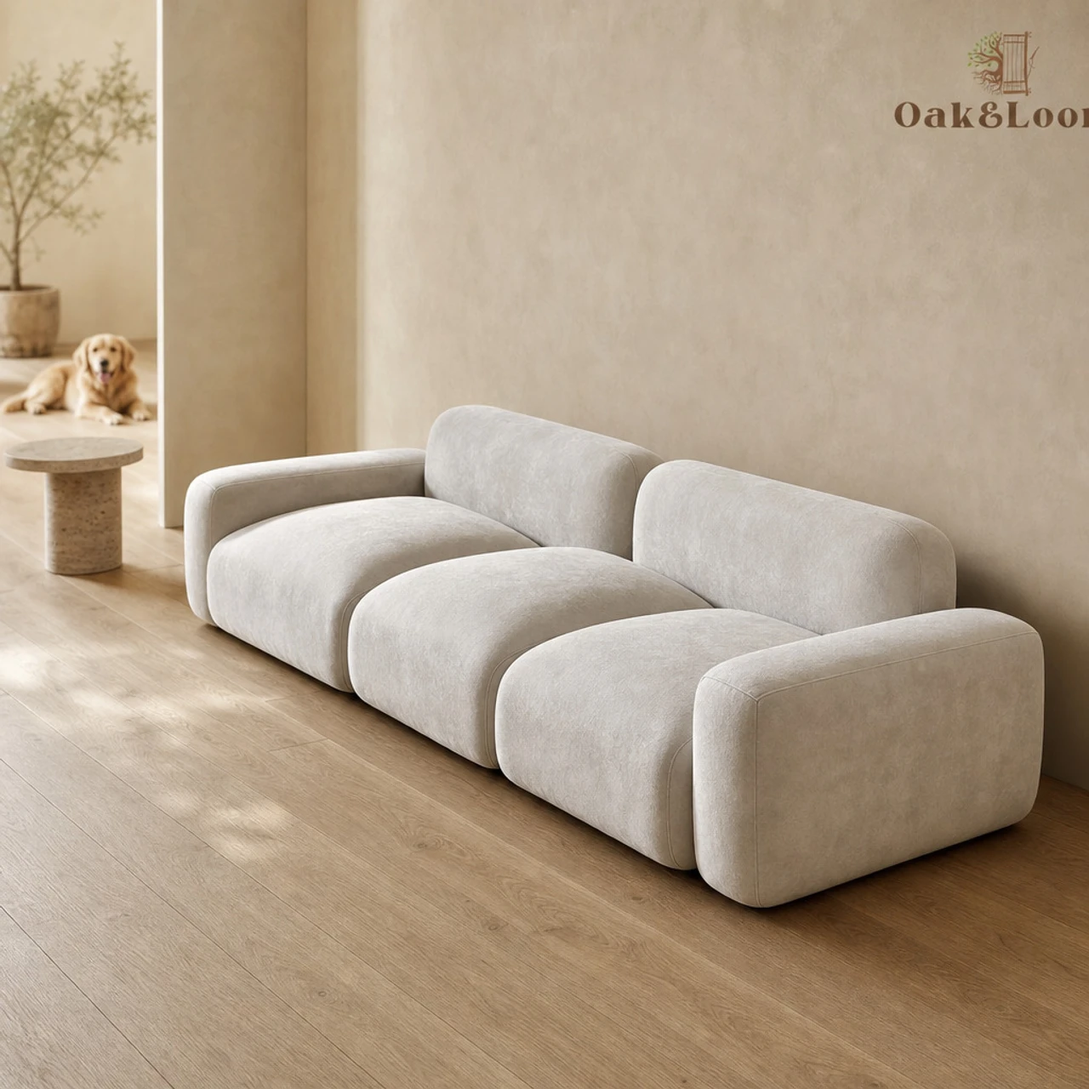3seatersofa: (185, 406, 1044, 906)
backrest: (424, 406, 955, 631)
leftarmrest: (693, 609, 1042, 906)
rightarmrest: (185, 448, 423, 620)
seat: (208, 497, 812, 869)
